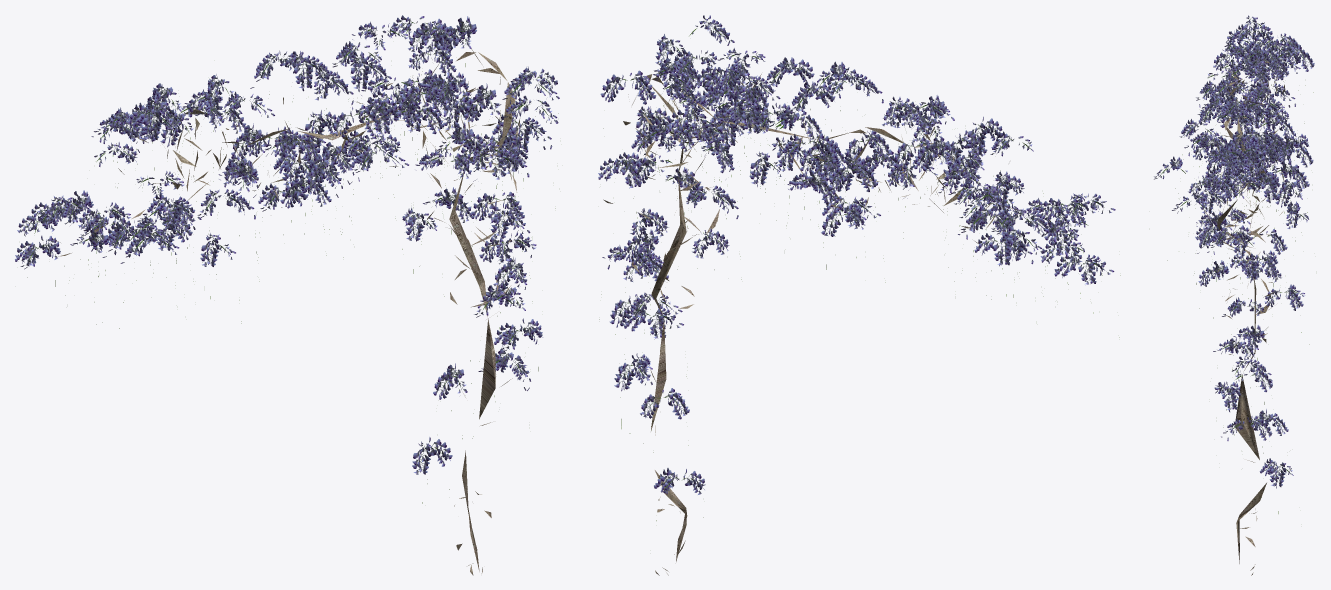
Rendered from wisteria.glb.
The picture shows the model from 3 angles, left to right: view 1: azimuth 30°, elevation 25°; view 2: azimuth 150°, elevation 25°; view 3: azimuth 270°, elevation 25°; orthographic projection. The views are drawn at different scales.
Parts seen in each view (by area): view 1: wisteria; view 2: wisteria; view 3: wisteria.
Boxes of the visible parts, x1,y1,x2,y2 form: wisteria: (15,15,559,575); wisteria: (598,15,1120,575); wisteria: (1154,15,1314,575).
Bounding box in the file's own units: 2.78 × 2.84 × 0.9772.
Materials: 6 (6 with a texture image).
